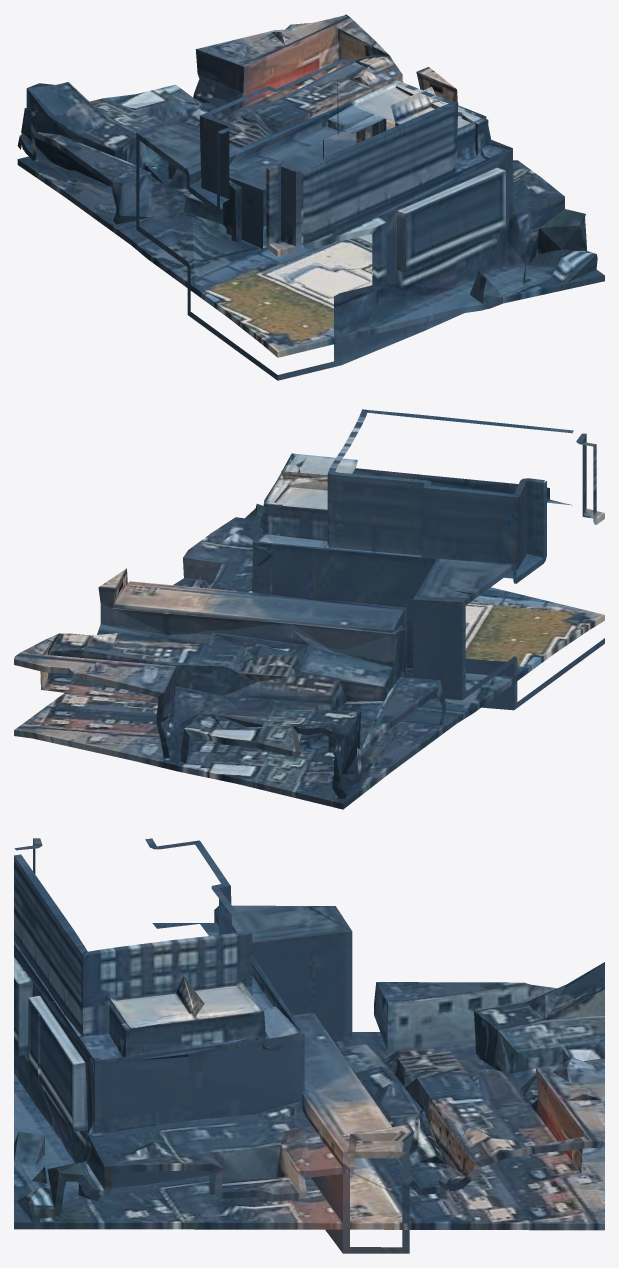
File: chunk_-4_-3.glb
3 renders of one model, top to bottom at view 1: azimuth 30°, elevation 25°; view 2: azimuth 150°, elevation 25°; view 3: azimuth 270°, elevation 25°, orthographic. The views are drawn at different scales.
Visible parts, largest first — view 1: hero-chunk; view 2: hero-chunk; view 3: hero-chunk.
Boxes of the visible parts, left/top/right/bottom form: hero-chunk: left=17, top=14, right=604, bottom=380; hero-chunk: left=14, top=409, right=604, bottom=809; hero-chunk: left=14, top=838, right=604, bottom=1253.
Size of the model in its own units: 56.04 by 33.56 by 76.32.
1 material, 1 textured.
